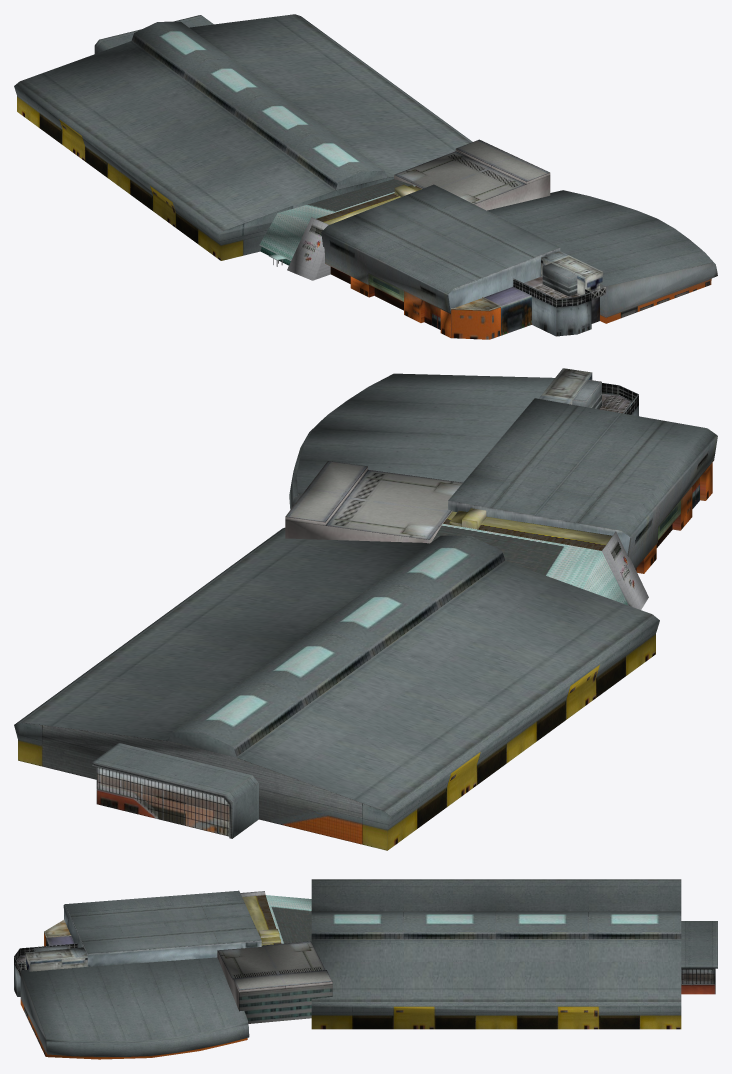
Rendered from AsiaWorld-Expo_LowLOD.dae.
3 views of the same model, one above another, from view 1: azimuth 30°, elevation 25°; view 2: azimuth 150°, elevation 25°; view 3: azimuth 270°, elevation 25° (orthographic). The views are drawn at different scales.
Visible parts, largest first — view 1: AsiaWorld_Expo; view 2: AsiaWorld_Expo; view 3: AsiaWorld_Expo.
Boxes of the visible parts, x1,y1,x2,y2 form: AsiaWorld_Expo: (14, 14, 717, 339); AsiaWorld_Expo: (14, 368, 717, 850); AsiaWorld_Expo: (14, 879, 717, 1059).
Bounding box in the file's own units: 33.11 × 61.96 × 4.92.
1 material, 1 textured.
